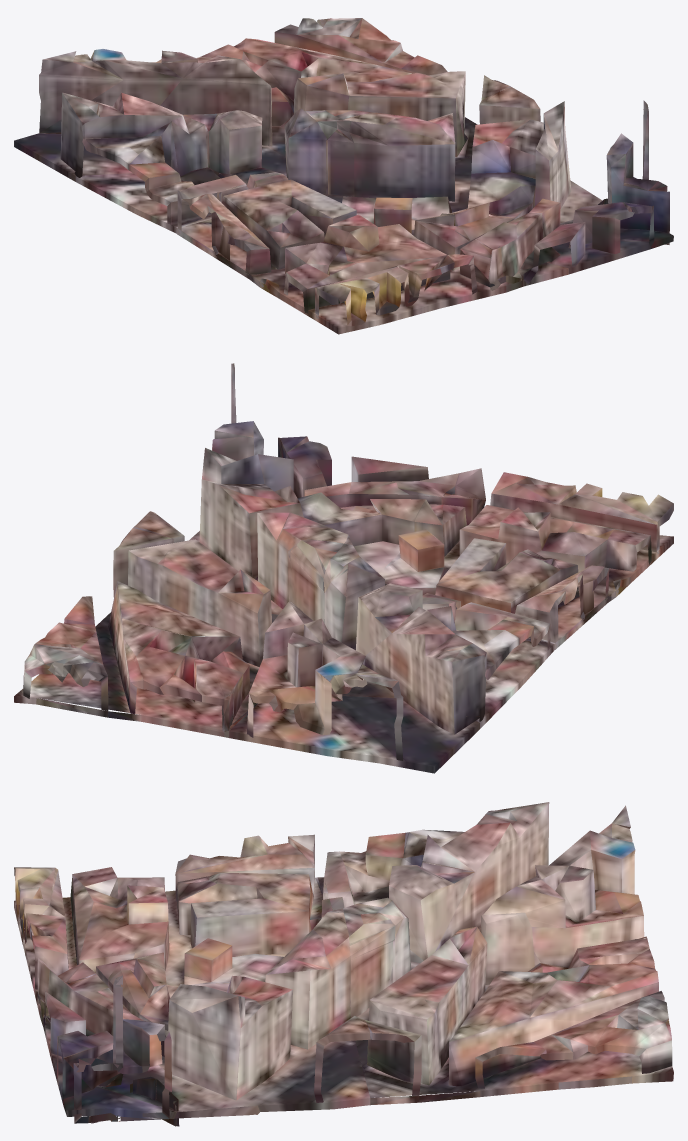
3 views of the same model, one above another, from view 1: azimuth 30°, elevation 25°; view 2: azimuth 150°, elevation 25°; view 3: azimuth 270°, elevation 25° (orthographic). The views are drawn at different scales.
Visible parts, largest first — view 1: Mesh_0; view 2: Mesh_0; view 3: Mesh_0.
Boxes of the visible parts, x1,y1,x2,y2 form: Mesh_0: [14, 18, 673, 334]; Mesh_0: [14, 363, 673, 773]; Mesh_0: [14, 802, 673, 1126].
Bounding box in the file's own units: 266 × 85.62 × 330.
1 material, 1 textured.
